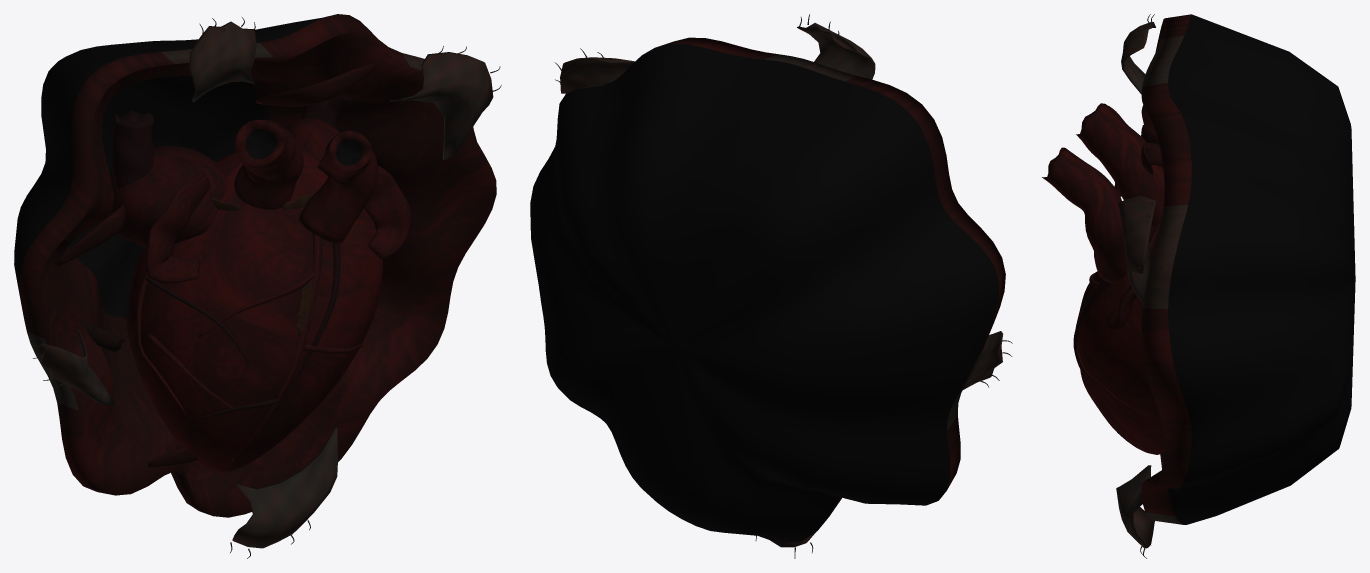
File: chest-anatomy-v2.glb
3 renders of one model, left to right at view 1: azimuth 30°, elevation 25°; view 2: azimuth 150°, elevation 25°; view 3: azimuth 270°, elevation 25°, orthographic. The views are drawn at different scales.
Visible parts, largest first — view 1: ChestWound, Heart; view 2: ChestWound; view 3: ChestWound, Heart.
Boxes of the visible parts, box(x1,y1,x2,y2) form: ChestWound: box(14, 14, 501, 558); Heart: box(105, 95, 411, 474); ChestWound: box(530, 14, 1012, 558); ChestWound: box(1116, 14, 1355, 558); Heart: box(1042, 103, 1164, 454).
Bounding box in the file's own units: 0.17 × 0.19 × 0.105.
Materials: 1 (1 with a texture image).
